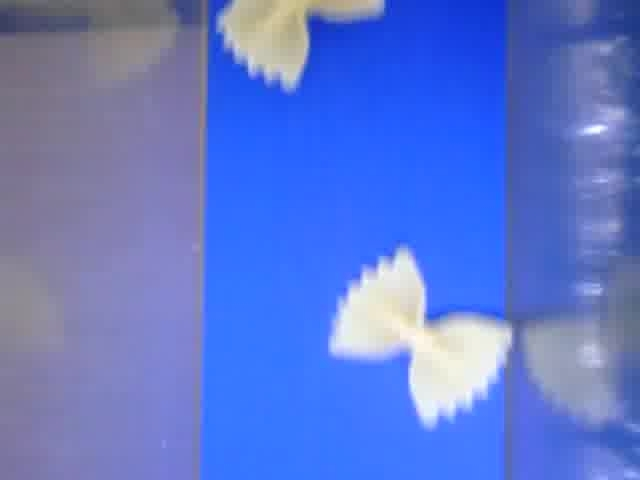farfalle: (328, 246, 514, 428), (211, 1, 386, 89)
